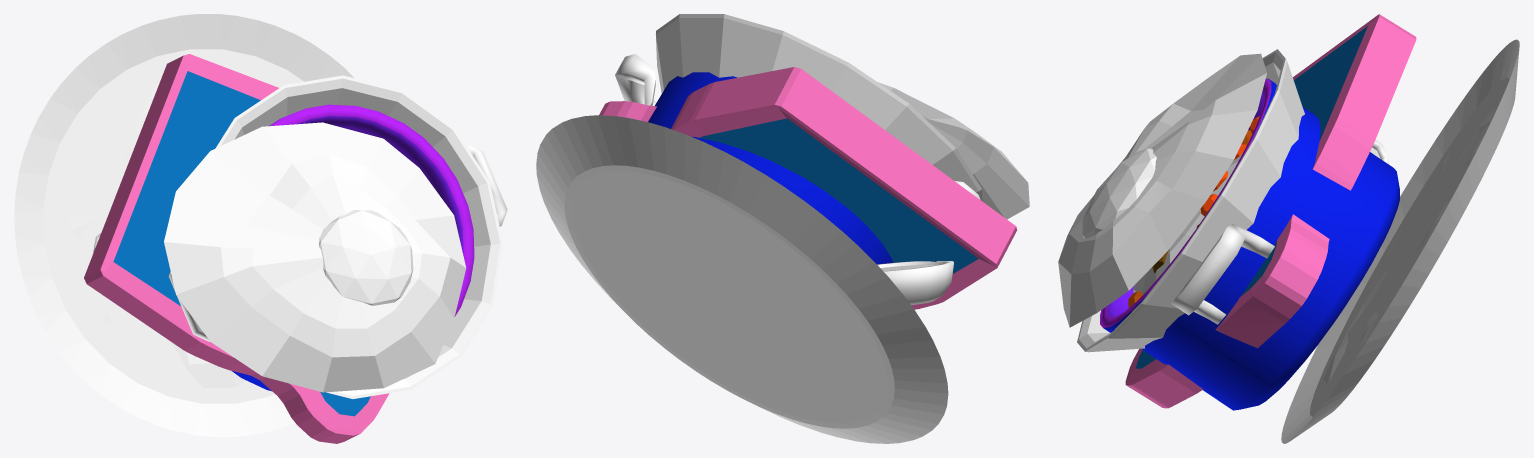
Rendered from Breakfast - Icon.fbx.
3 renders of one model, left to right at view 1: azimuth 30°, elevation 25°; view 2: azimuth 150°, elevation 25°; view 3: azimuth 270°, elevation 25°, orthographic. The views are drawn at different scales.
Parts seen in each view (by area): view 1: Cylinder_001_1, Cylinder_2, BreadSlice, Cylinder, Icosphere, Cylinder_1, Plane, Cylinder_003, Plane_001; view 2: Cylinder_2, BreadSlice, Cylinder, Cylinder_1, Cylinder_001_1, Skin, Cylinder_003; view 3: Cylinder_1, Cylinder_2, BreadSlice, Cylinder_001_1, Cylinder, Cylinder_003, Icosphere, Plane, Cylinder_001, Cube.
Part boxes in pixels (x1=…): Cylinder_001_1: x1=164, y1=122, x2=466, y2=392; Cylinder_2: x1=14, y1=14, x2=354, y2=436; BreadSlice: x1=84, y1=54, x2=389, y2=443; Cylinder: x1=215, y1=75, x2=503, y2=398; Icosphere: x1=319, y1=210, x2=413, y2=305; Cylinder_1: x1=232, y1=104, x2=474, y2=391; Plane: x1=119, y1=82, x2=245, y2=387; Cylinder_003: x1=168, y1=144, x2=507, y2=341; Plane_001: x1=66, y1=213, x2=121, y2=326; Cylinder_2: x1=536, y1=115, x2=948, y2=443; BreadSlice: x1=599, y1=67, x2=1017, y2=309; Cylinder: x1=655, y1=14, x2=982, y2=201; Cylinder_1: x1=648, y1=72, x2=892, y2=264; Cylinder_001_1: x1=878, y1=82, x2=1029, y2=219; Skin: x1=877, y1=261, x2=953, y2=304; Cylinder_003: x1=615, y1=54, x2=980, y2=199; Cylinder_1: x1=1100, y1=78, x2=1399, y2=410; Cylinder_2: x1=1281, y1=39, x2=1519, y2=443; BreadSlice: x1=1125, y1=14, x2=1416, y2=408; Cylinder_001_1: x1=1058, y1=53, x2=1266, y2=327; Cylinder: x1=1077, y1=49, x2=1304, y2=352; Cylinder_003: x1=1171, y1=224, x2=1274, y2=324; Icosphere: x1=1082, y1=148, x2=1156, y2=238; Plane: x1=1323, y1=108, x2=1495, y2=386; Cylinder_001: x1=1133, y1=153, x2=1242, y2=295; Cube: x1=1128, y1=116, x2=1259, y2=307.
Size of the model in its own units: 71.61 by 64.78 by 69.58.
